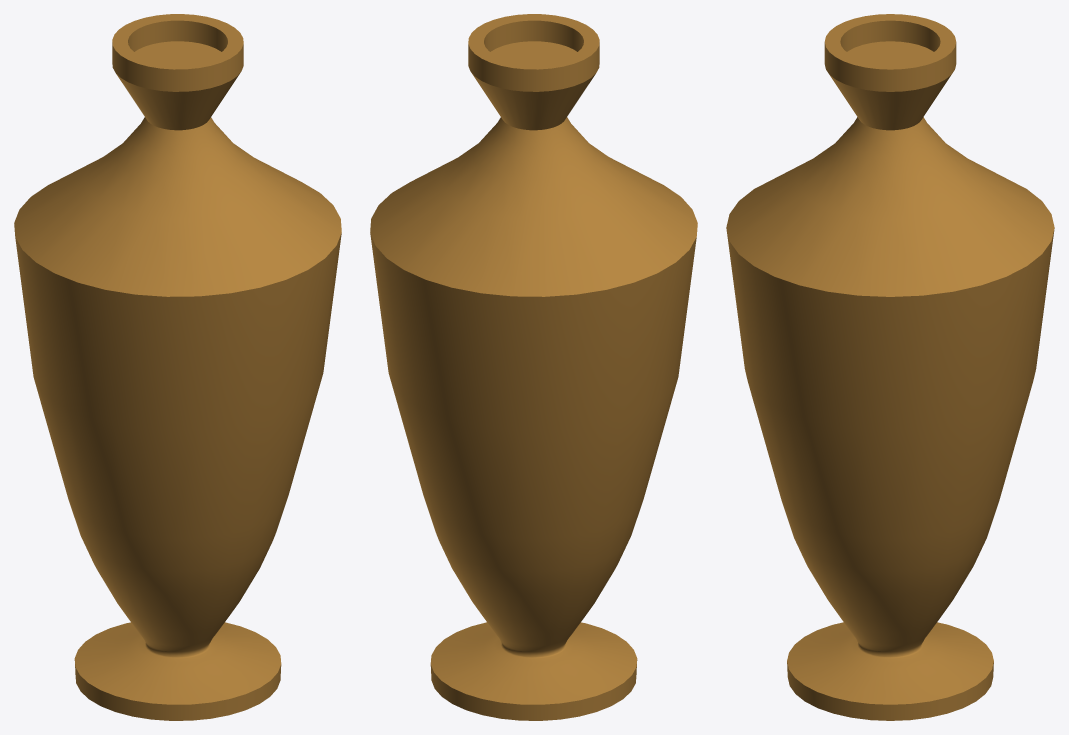
File: obj_treasure_05.fbx
The picture shows the model from 3 angles, left to right: view 1: azimuth 30°, elevation 25°; view 2: azimuth 150°, elevation 25°; view 3: azimuth 270°, elevation 25°; orthographic projection.
Parts seen in each view (by area): view 1: Cylinder.010; view 2: Cylinder.010; view 3: Cylinder.010.
Boxes of the visible parts, x1,y1,x2,y2 form: Cylinder.010: (14,14,341,720); Cylinder.010: (370,14,697,720); Cylinder.010: (726,14,1054,720).
Bounding box in the file's own units: 5.45 × 11.65 × 5.45.
